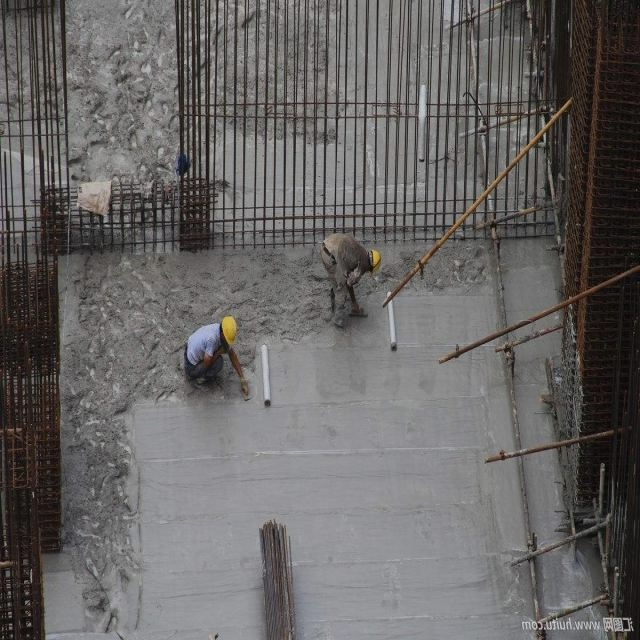Con_Casco: (219, 315, 237, 353), (366, 245, 383, 279)
